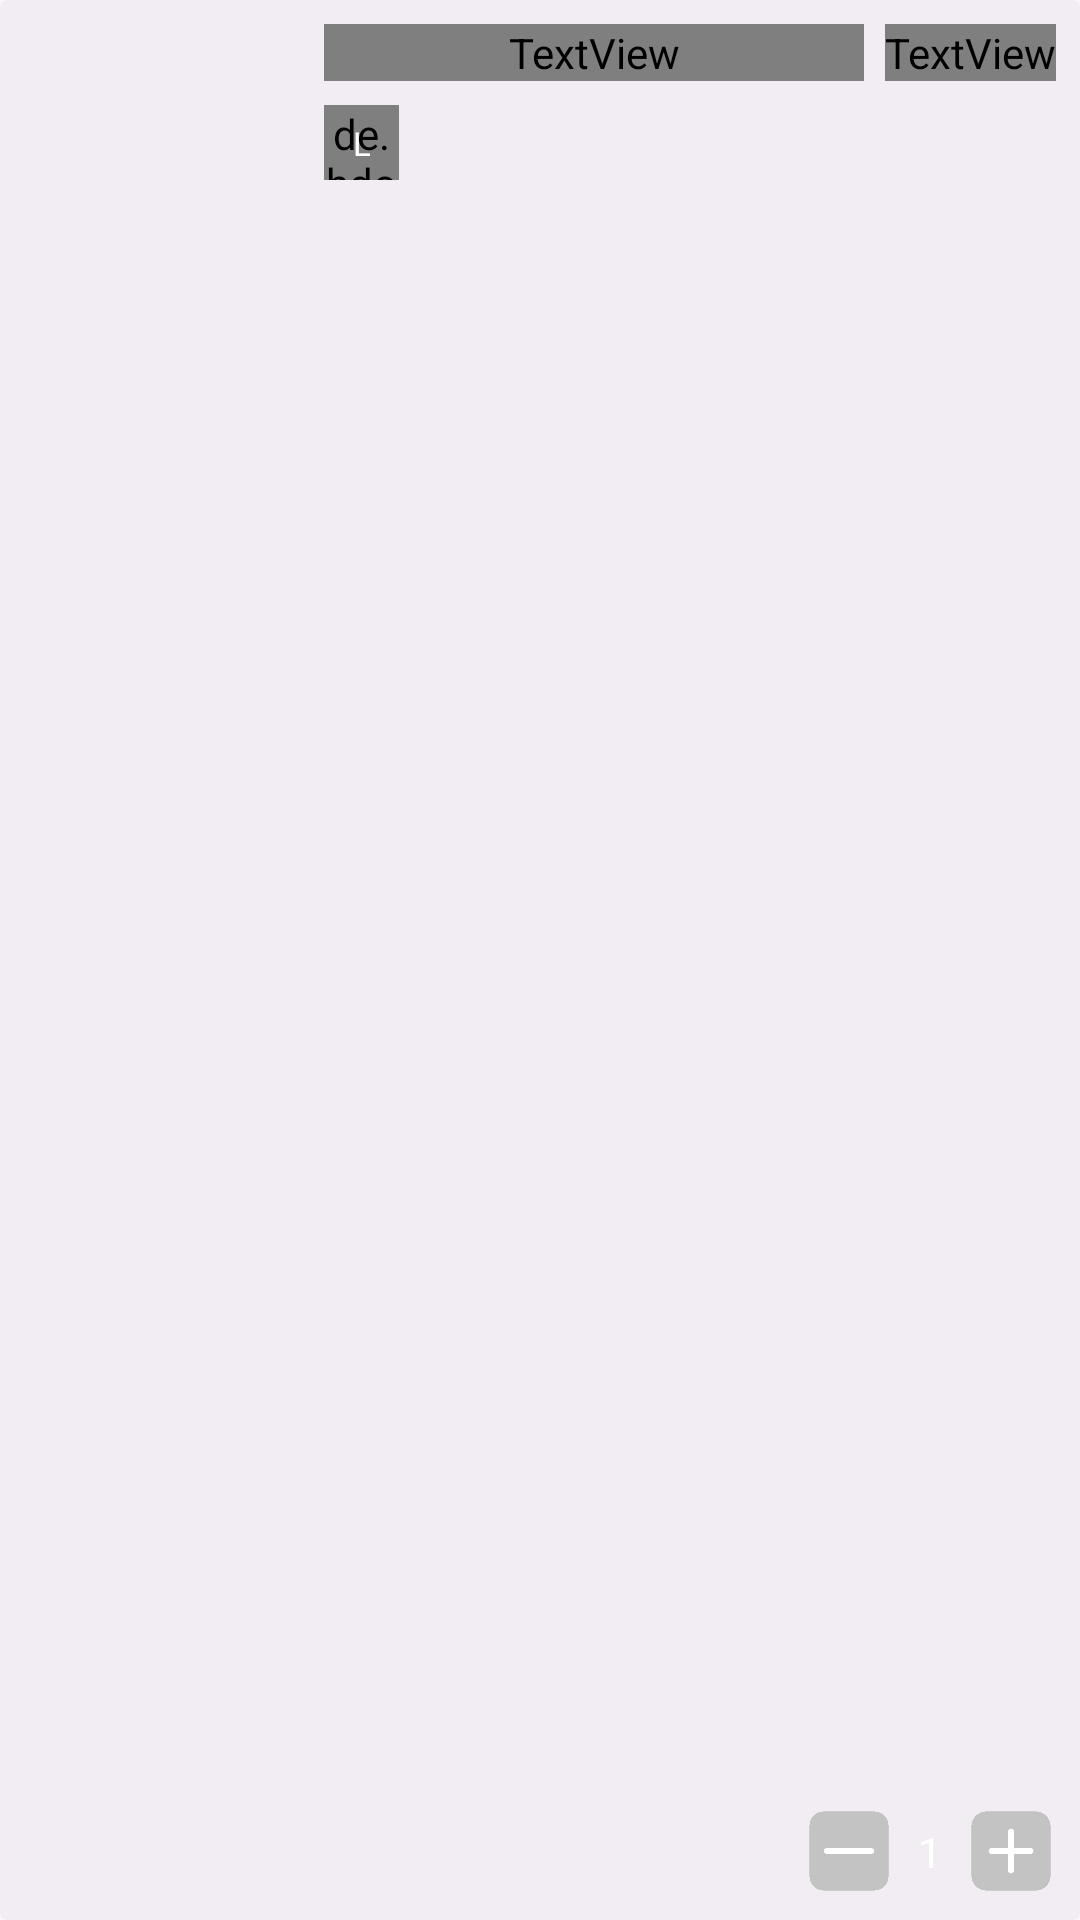

Where icons sit on this 1080w x 1920h app screen, as (x1, y1, x2, y2):
minus: (809, 1811, 889, 1891)
plus: (971, 1811, 1051, 1891)
